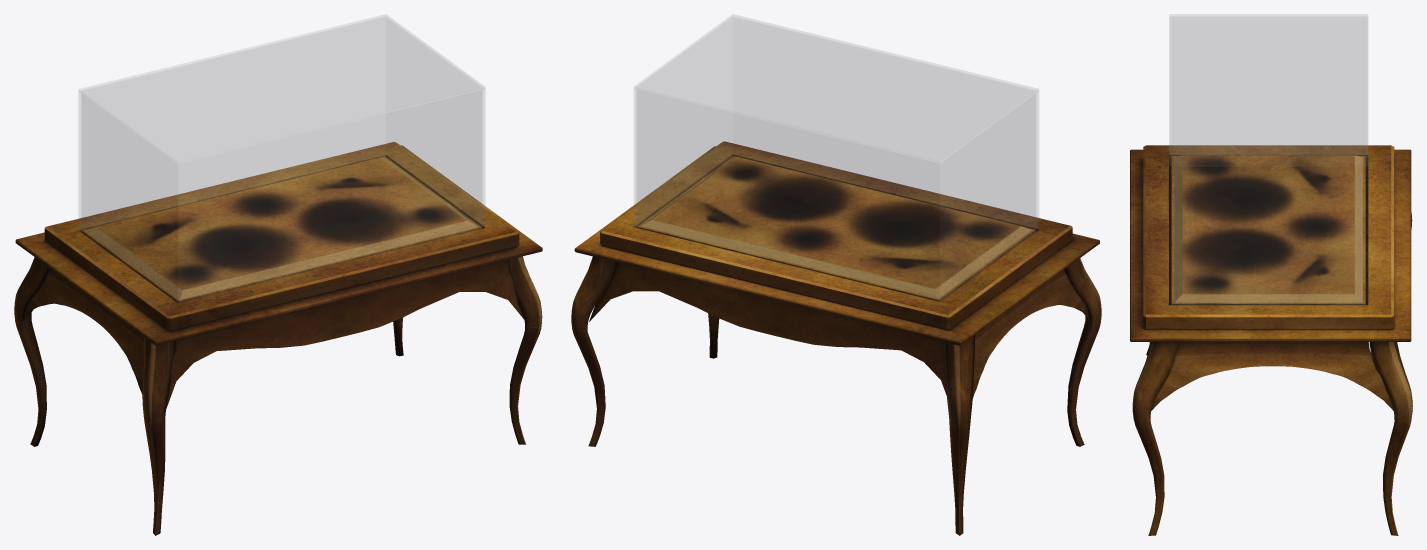
File: Museum_Displaytable_01.FBX
3 renders of one model, left to right at view 1: azimuth 30°, elevation 25°; view 2: azimuth 150°, elevation 25°; view 3: azimuth 270°, elevation 25°, orthographic.
Visible parts, largest first — view 1: Museum_Displaytable_01; view 2: Museum_Displaytable_01; view 3: Museum_Displaytable_01.
Part boxes in pixels (left/top/right/bottom): Museum_Displaytable_01: left=14, top=14, right=542, bottom=535; Museum_Displaytable_01: left=571, top=14, right=1101, bottom=535; Museum_Displaytable_01: left=1130, top=14, right=1412, bottom=535.
Size of the model in its own units: 1352 by 1166 by 837.
2 materials, 1 textured.
